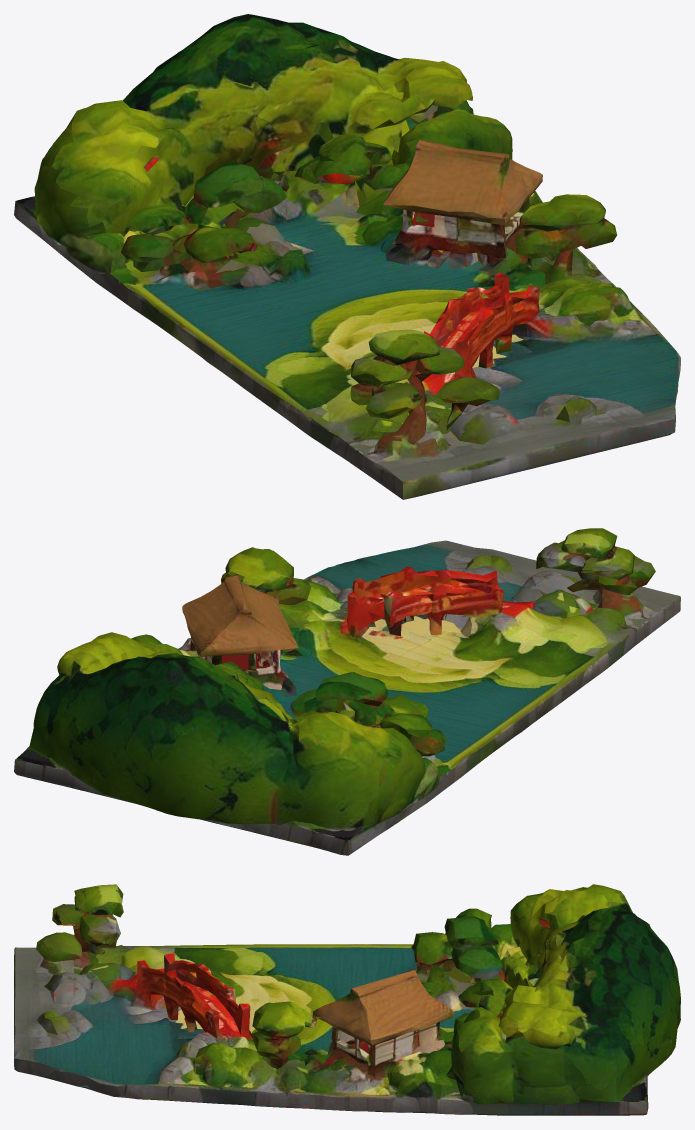
Rendered from ritsurin-garden.glb.
The picture shows the model from 3 angles, top to bottom: view 1: azimuth 30°, elevation 25°; view 2: azimuth 150°, elevation 25°; view 3: azimuth 270°, elevation 25°; orthographic projection. The views are drawn at different scales.
Visible parts, largest first — view 1: logan-textured.obj; view 2: logan-textured.obj; view 3: logan-textured.obj.
Part boxes in pixels (x1,y1,x2,y2): logan-textured.obj: (14, 14, 680, 499); logan-textured.obj: (14, 528, 680, 855); logan-textured.obj: (14, 884, 680, 1115).
Size of the model in its own units: 0.5884 by 0.221 by 1.
Materials: 1 (1 with a texture image).
